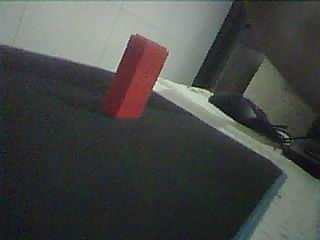lego: (100, 32, 169, 120)
